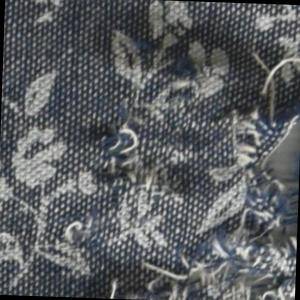Damage: (73, 35, 300, 300)
